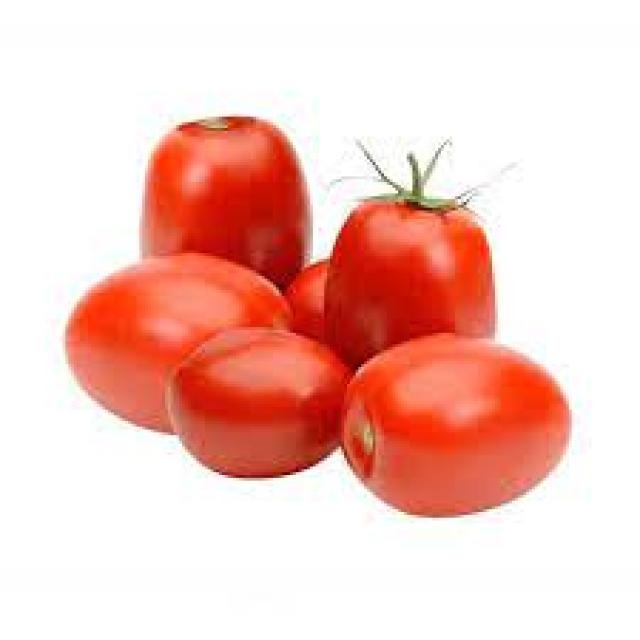Fresh_tomato: (328, 358, 570, 494), (75, 281, 298, 414), (342, 170, 499, 352), (171, 108, 292, 290)
